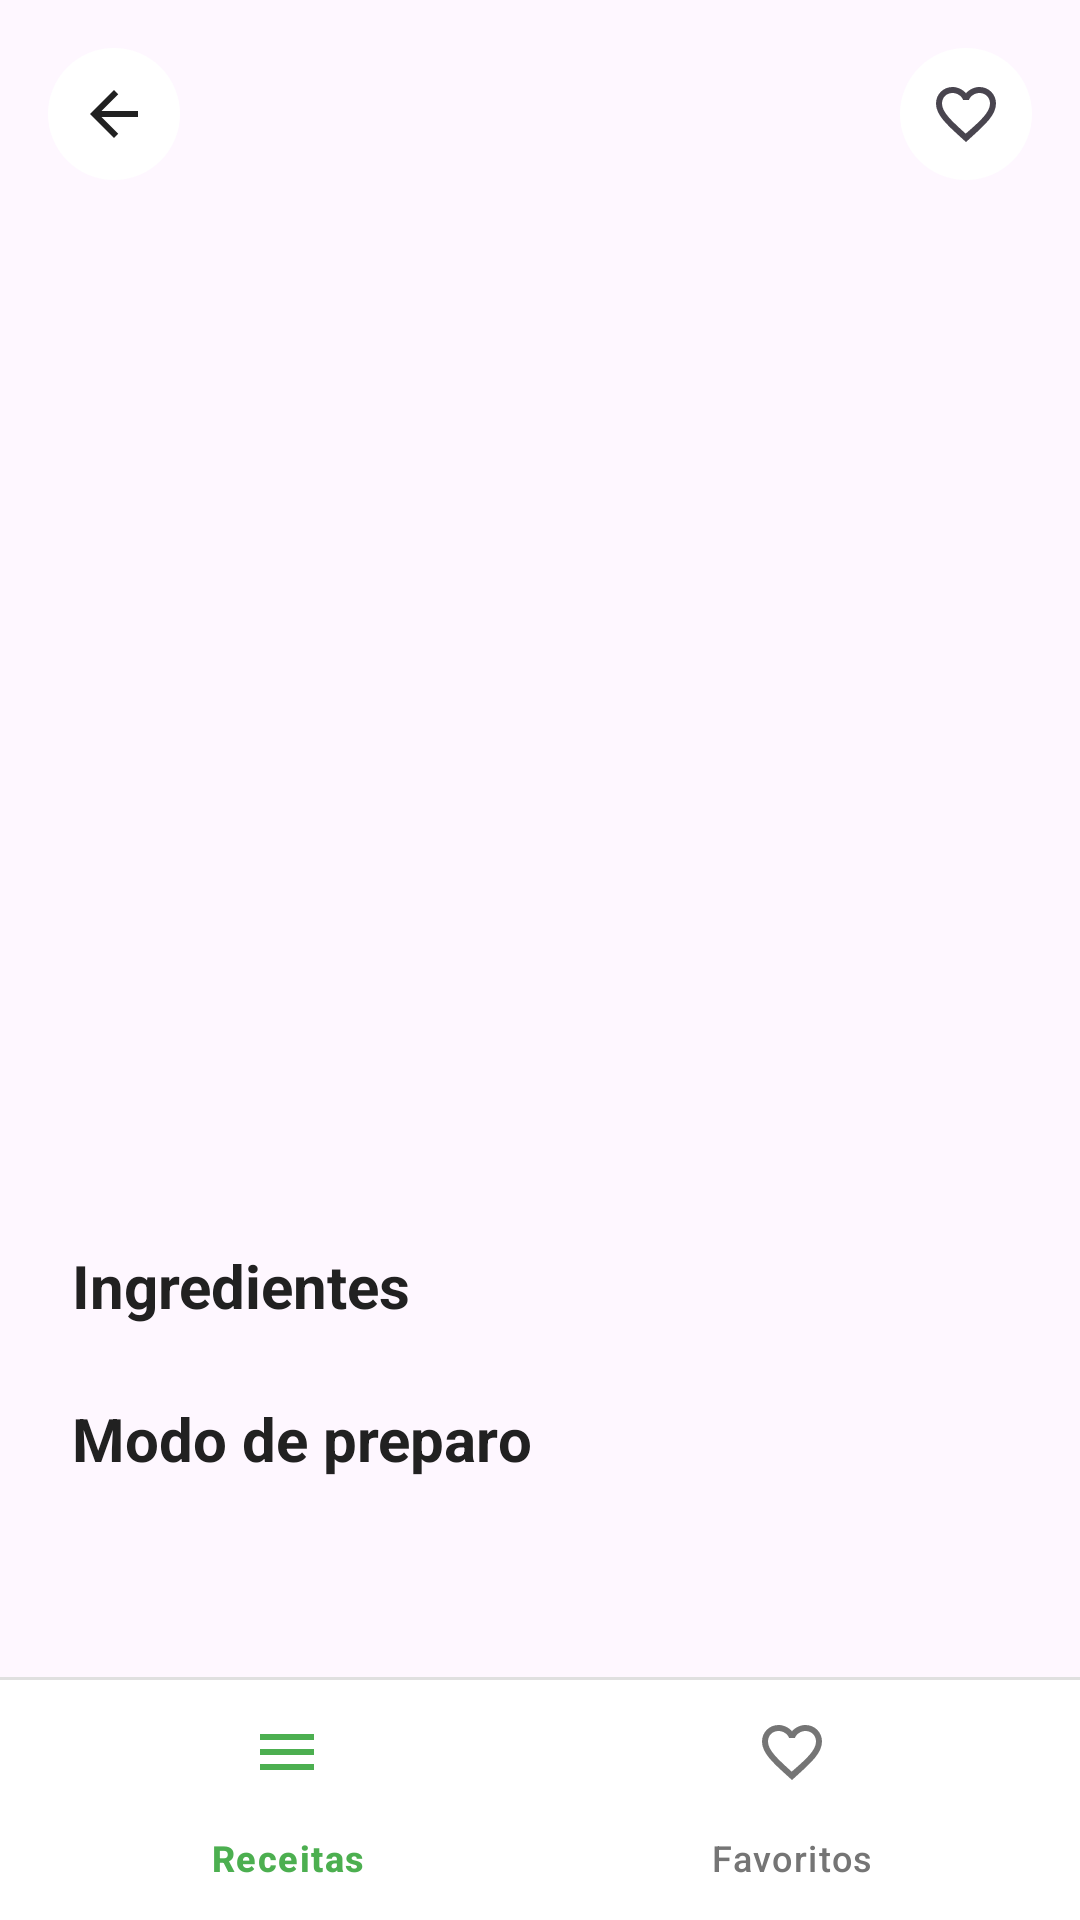

Where icons sit on this 1080px x 1920px app screen, as (x1, y1, x2, y2):
Adicionar aos favoritos: (936, 87, 996, 142)
Voltar: (90, 90, 138, 138)
